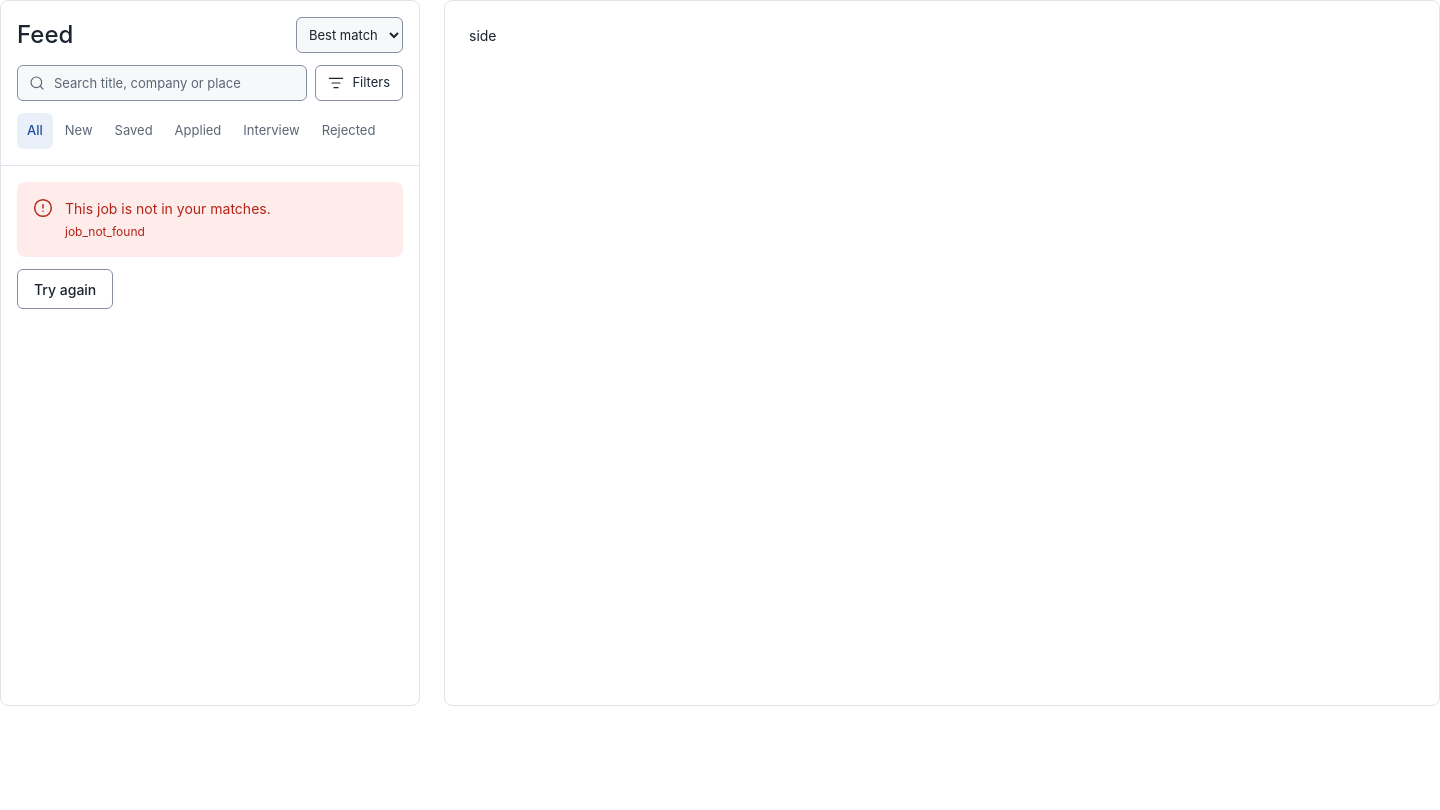
Scenario: feed list › shows an error panel with a retry, and retries
Expected: the message shows "job_not_found", [65,224,145,239]
Click the button "Try again".
click(65, 289)  # box [17,269,113,309]
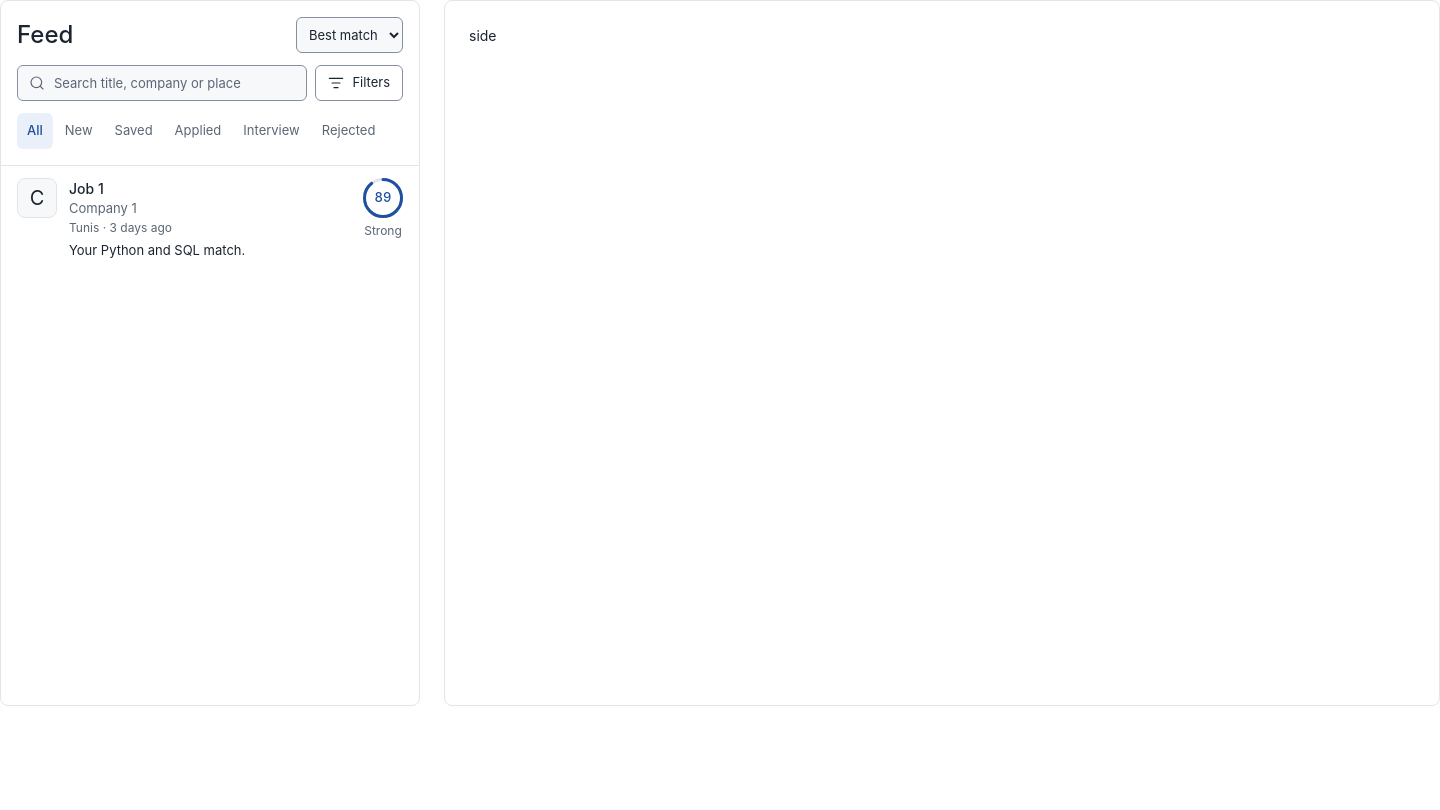
Expected: the text "Job 1" is shown, [69,180,104,197]
